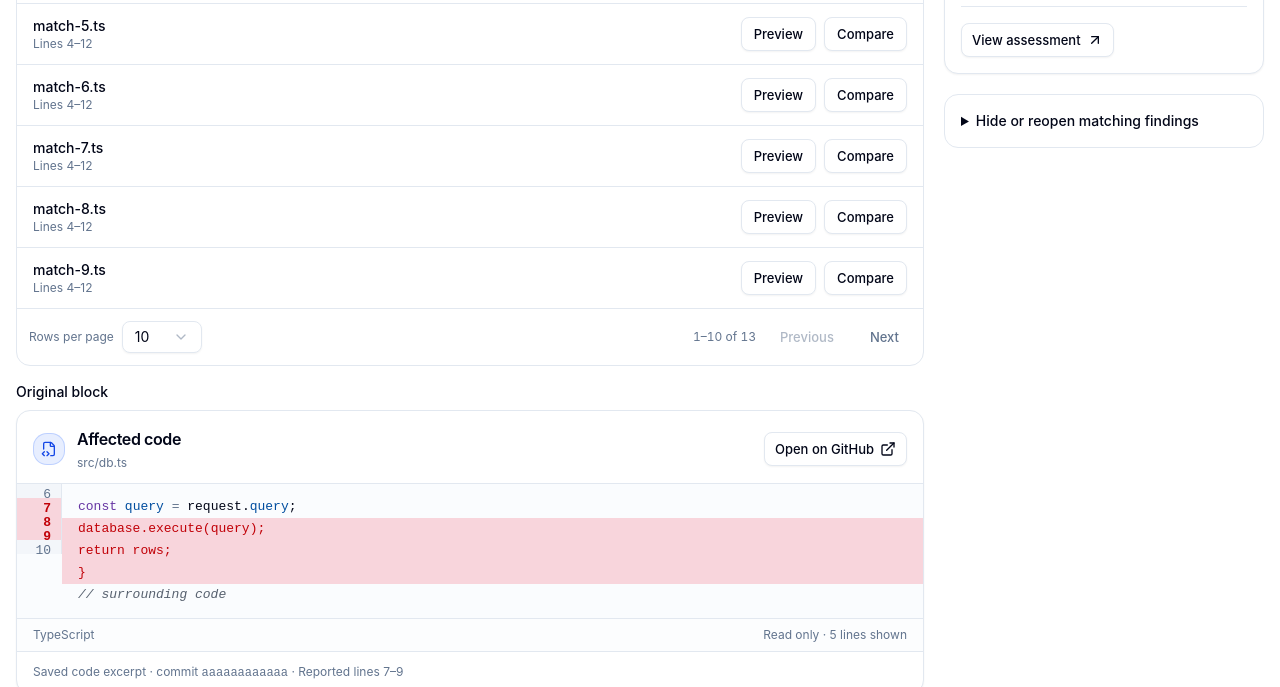
Scenario: paginates all reported locations with ten rows by default
(page scrolled)
Expected: the button with aria-label "Preview location 10" is shown, x1=741 y1=261 x2=816 y2=295
Step 1. Click the button "Next" → (884, 337), box x1=858 y1=321 x2=911 y2=353
(page scrolled)
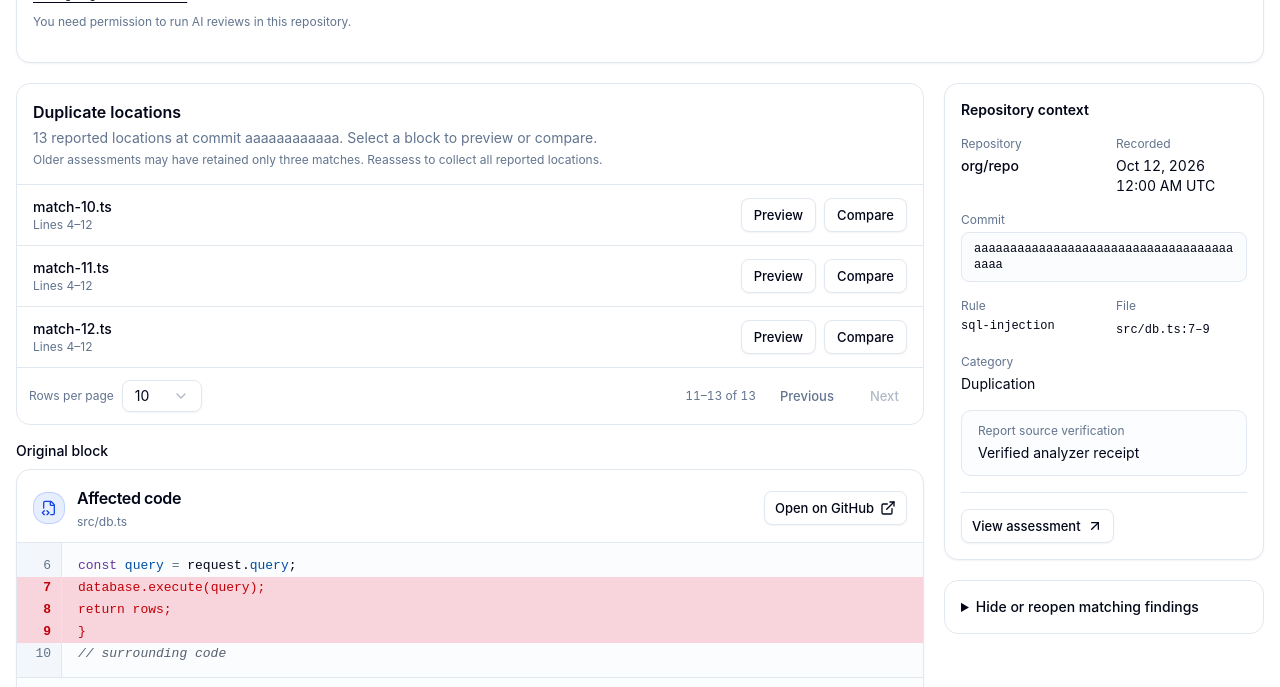
Result: the button with aria-label "Compare location 13" is shown
Step 2. Click the button with aria-label "Compare location 13" → (866, 337), box x1=824 y1=320 x2=907 y2=354
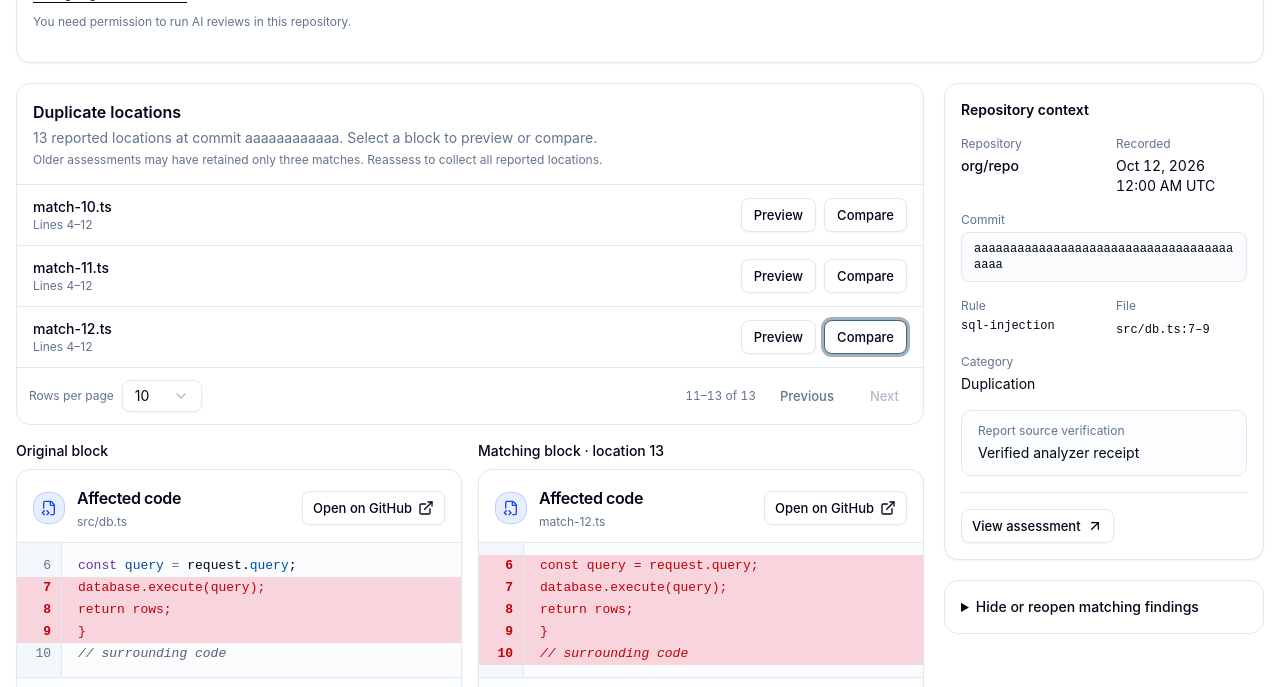
Result: the heading "Matching block · location 13" is shown at x1=478 y1=442 x2=664 y2=459
